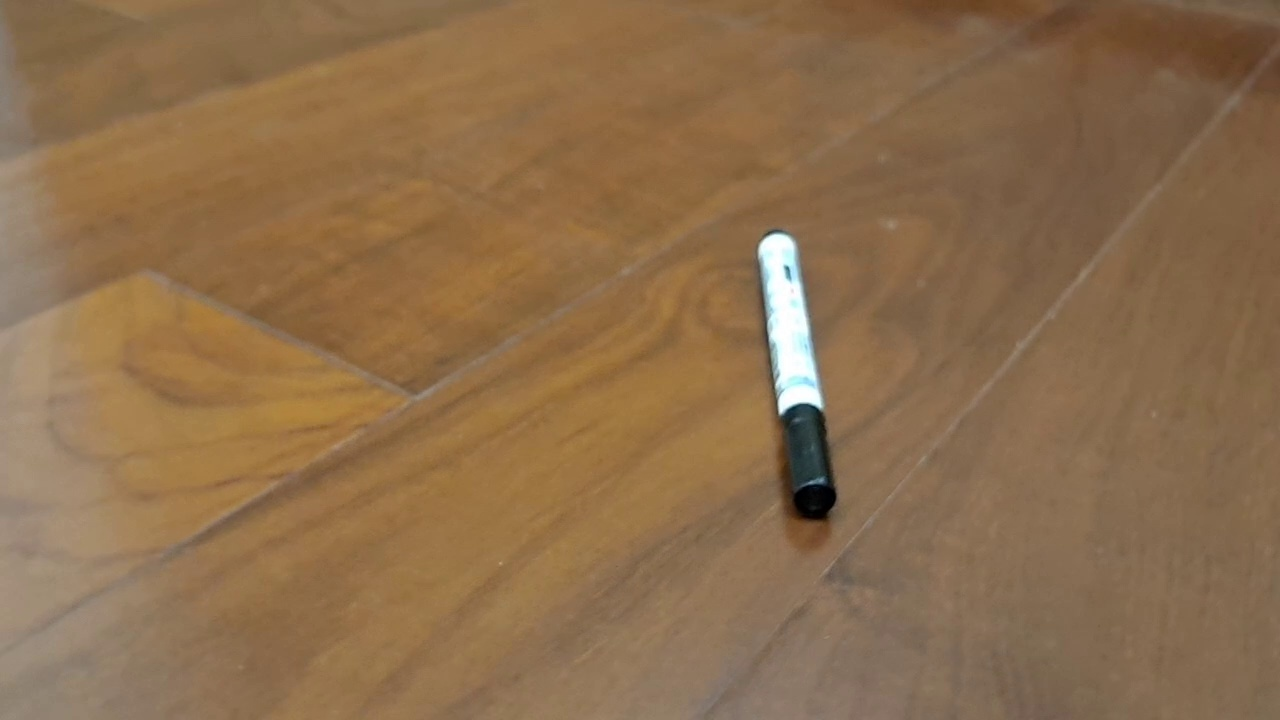pen: (756, 229, 837, 520)
